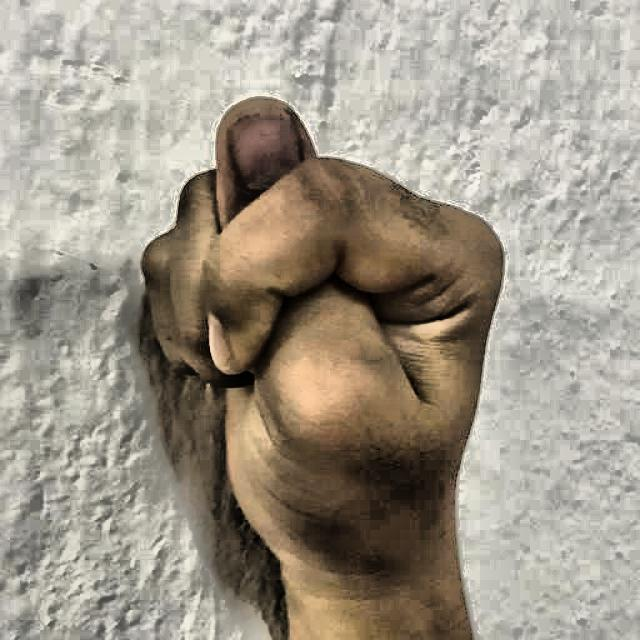Ta: (109, 63, 524, 640)
